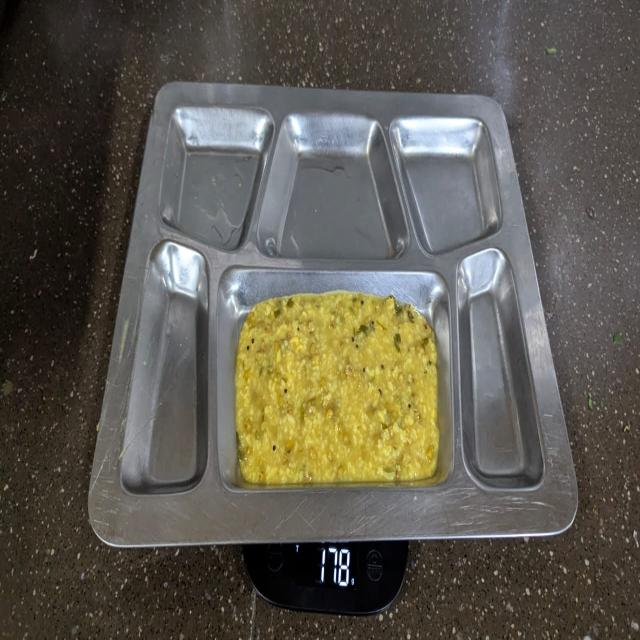Dal: (232, 285, 439, 485)
